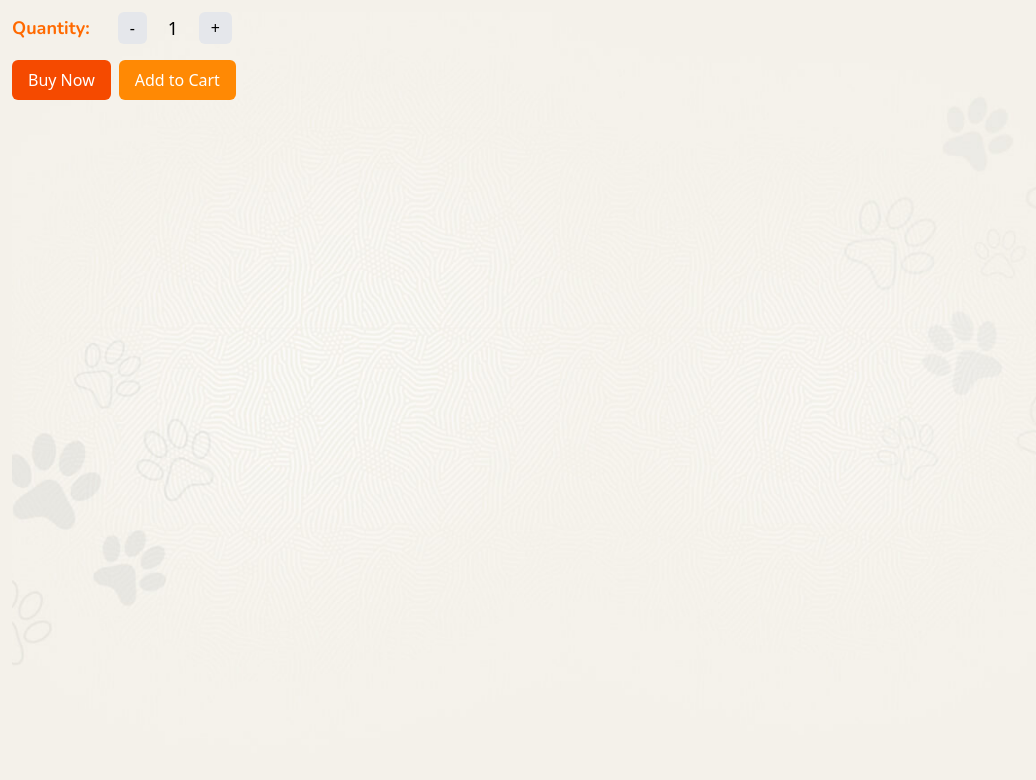
Scenario: UserButtons › increases quantity when + button is clicked
The image size is (1036, 780).
Click the button "+": {"x": 215, "y": 28} x1=199 y1=12 x2=232 y2=44
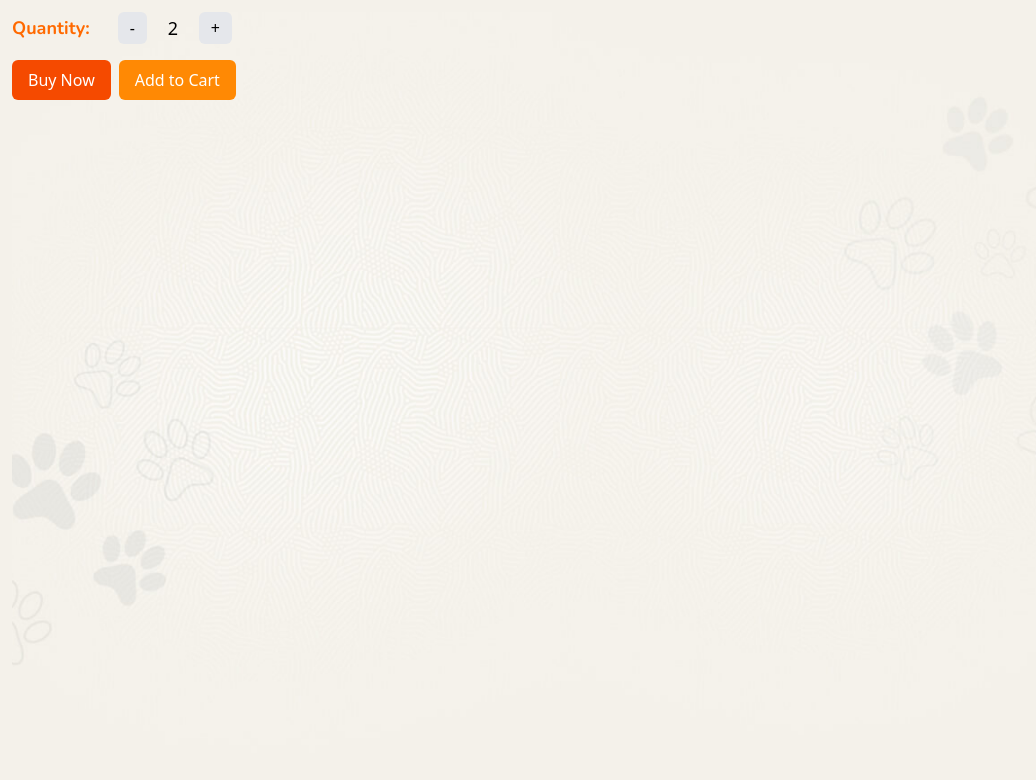
Result: the field showing "2" is shown at x1=157 y1=14 x2=189 y2=42
